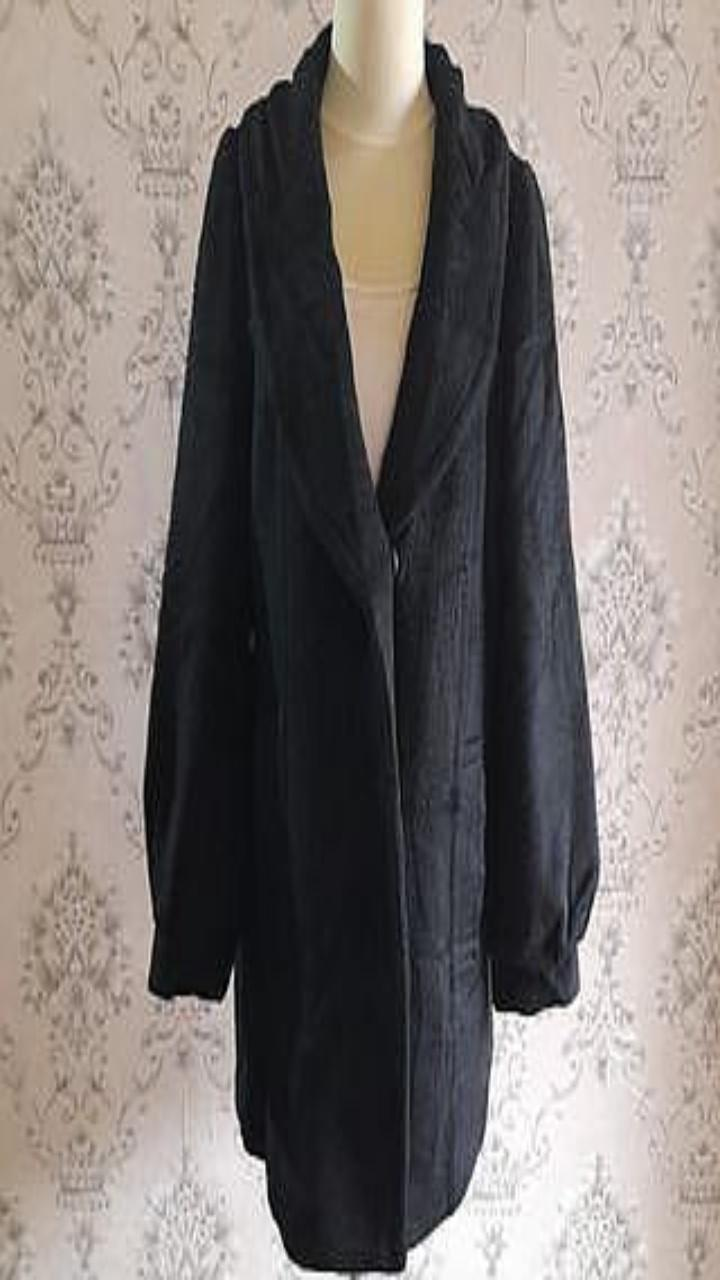Coat: (144, 22, 598, 1271)
